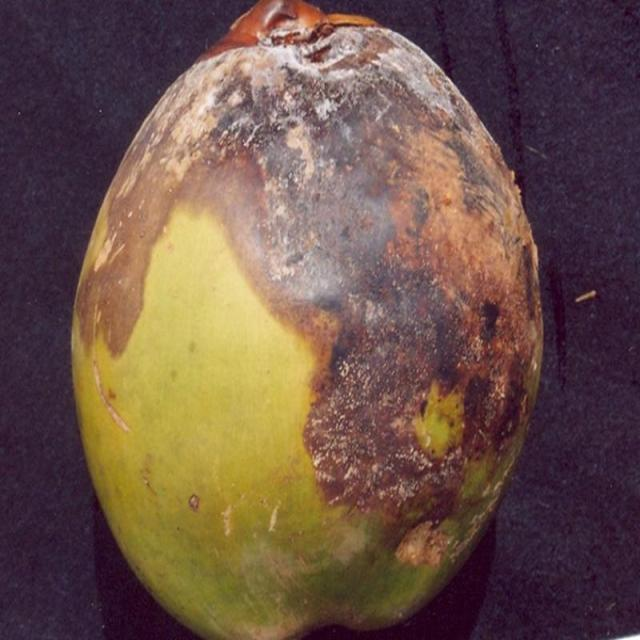damaged: (72, 0, 542, 639)
